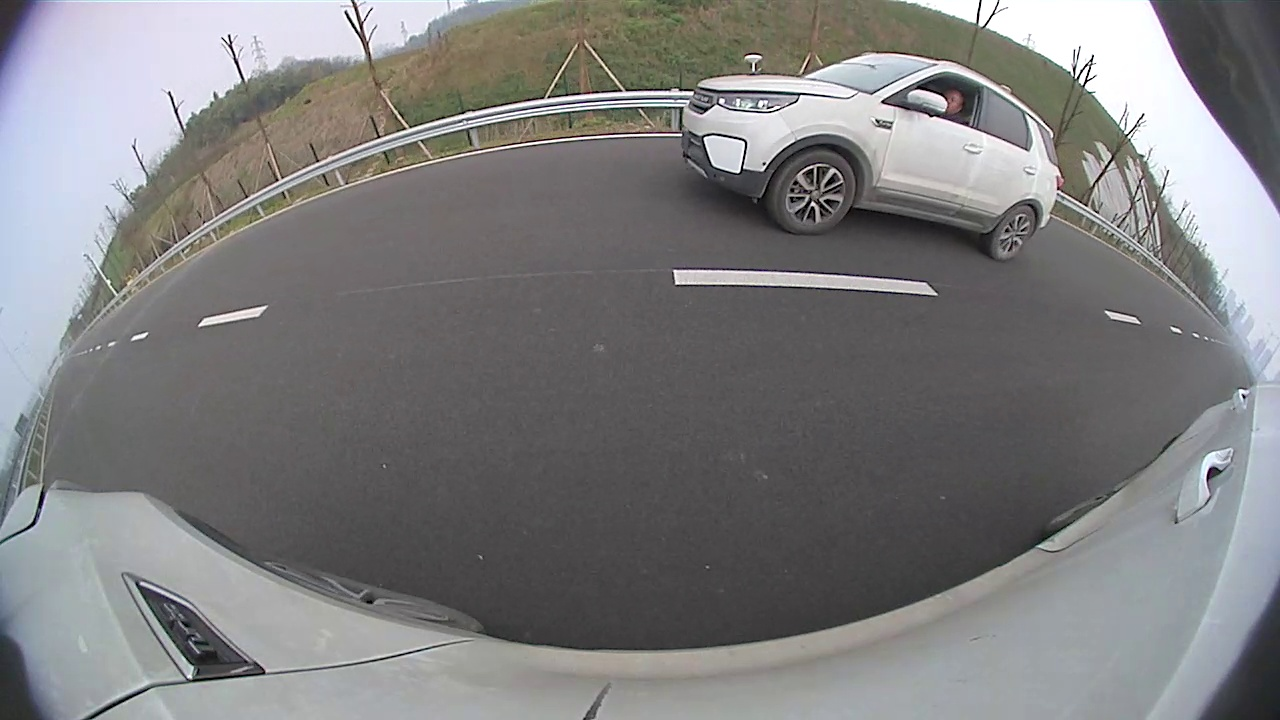car: (682, 54, 1063, 261)
front: (769, 148, 856, 238)
rear: (990, 206, 1036, 262)
